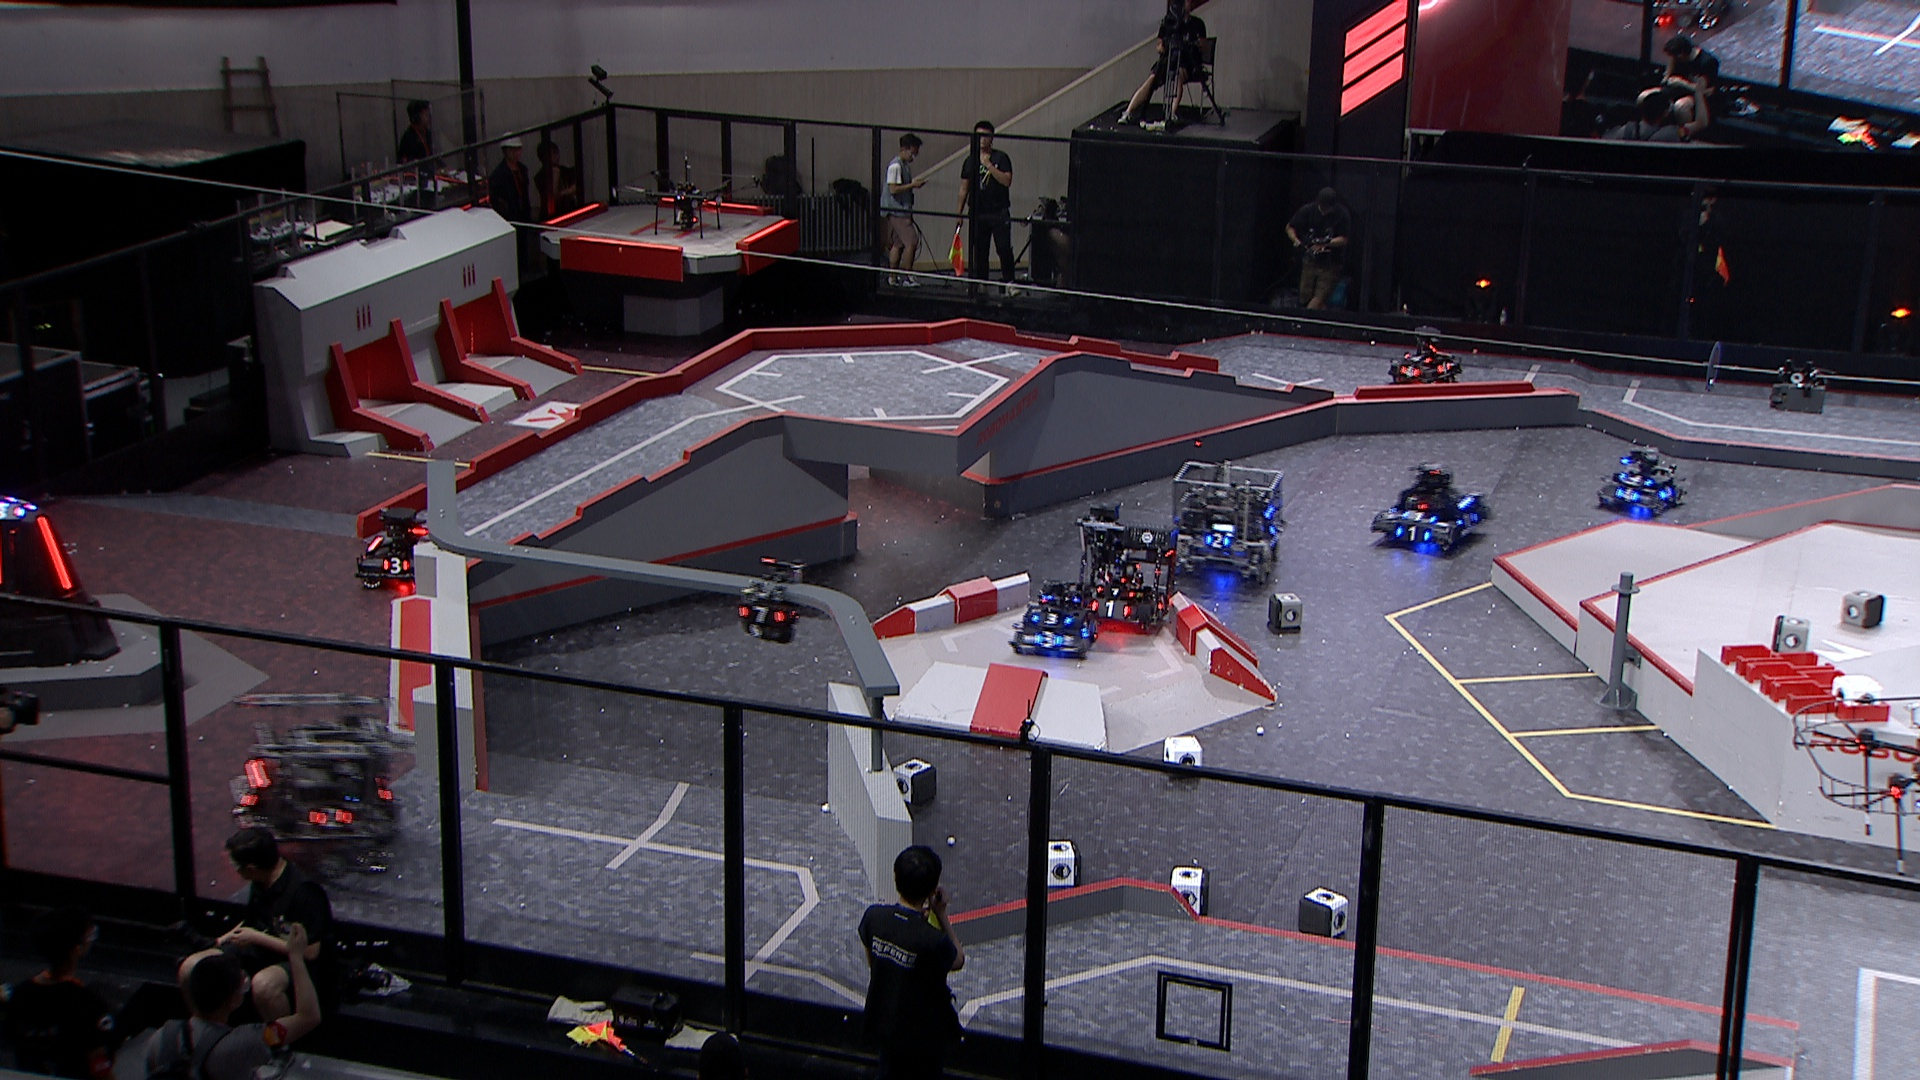armor: (34, 512, 71, 593), (738, 604, 785, 626), (313, 806, 347, 827), (1095, 597, 1127, 618), (1031, 611, 1069, 628), (1396, 527, 1429, 546), (381, 555, 413, 574), (233, 782, 253, 808), (1619, 472, 1652, 487), (1404, 508, 1433, 524), (1096, 585, 1134, 597), (1457, 513, 1481, 531), (1035, 632, 1063, 647), (1207, 533, 1229, 551), (1400, 363, 1422, 378), (1615, 487, 1638, 501), (1406, 352, 1429, 365), (1077, 618, 1093, 638), (1658, 484, 1675, 501), (1154, 597, 1168, 616), (1269, 518, 1282, 533), (1437, 361, 1451, 373)
car: (225, 687, 409, 878), (1164, 458, 1283, 593), (1072, 498, 1178, 636), (1370, 465, 1493, 559), (357, 501, 451, 589), (1596, 438, 1685, 524), (1010, 579, 1098, 661), (1387, 320, 1465, 400)
watcher: (728, 556, 804, 644)
